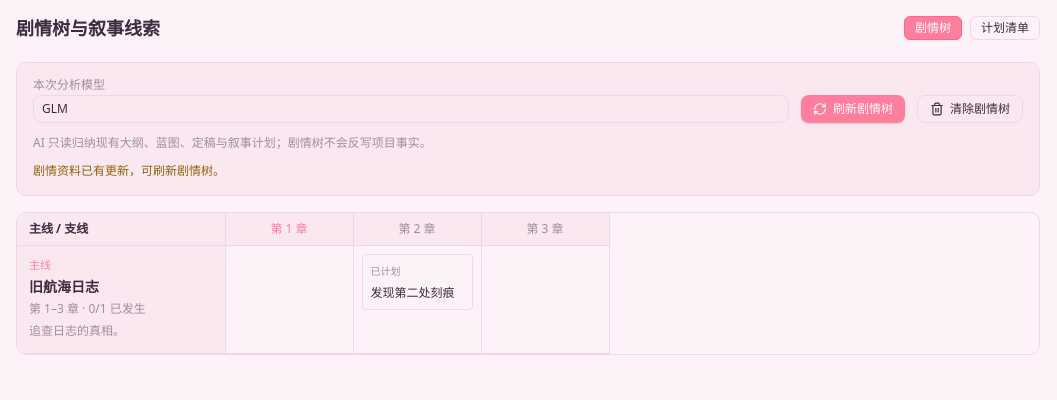
NarrativeThreadEditor › shows a known clear failure in Chinese: Error: 剧情树快照清除失败
Click the button "清除剧情树": (970, 109) [917, 95, 1023, 123]
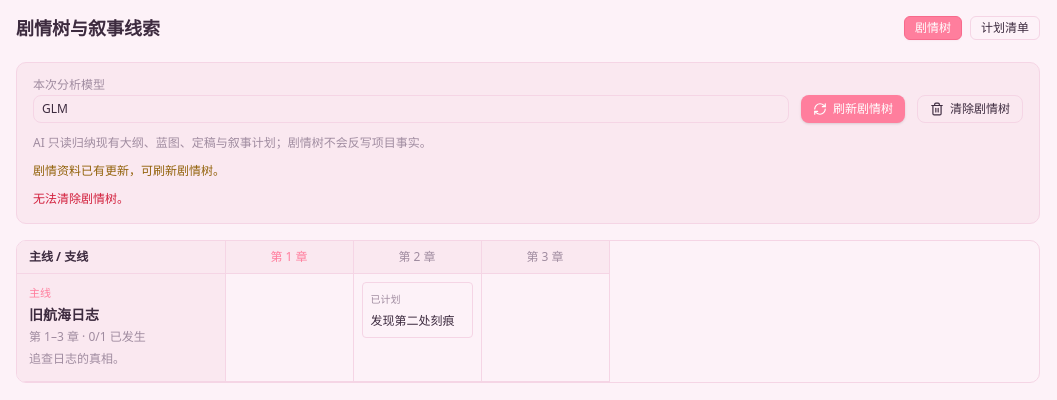
Expected: the text "无法清除剧情树。" is shown, [33, 190, 129, 207]
